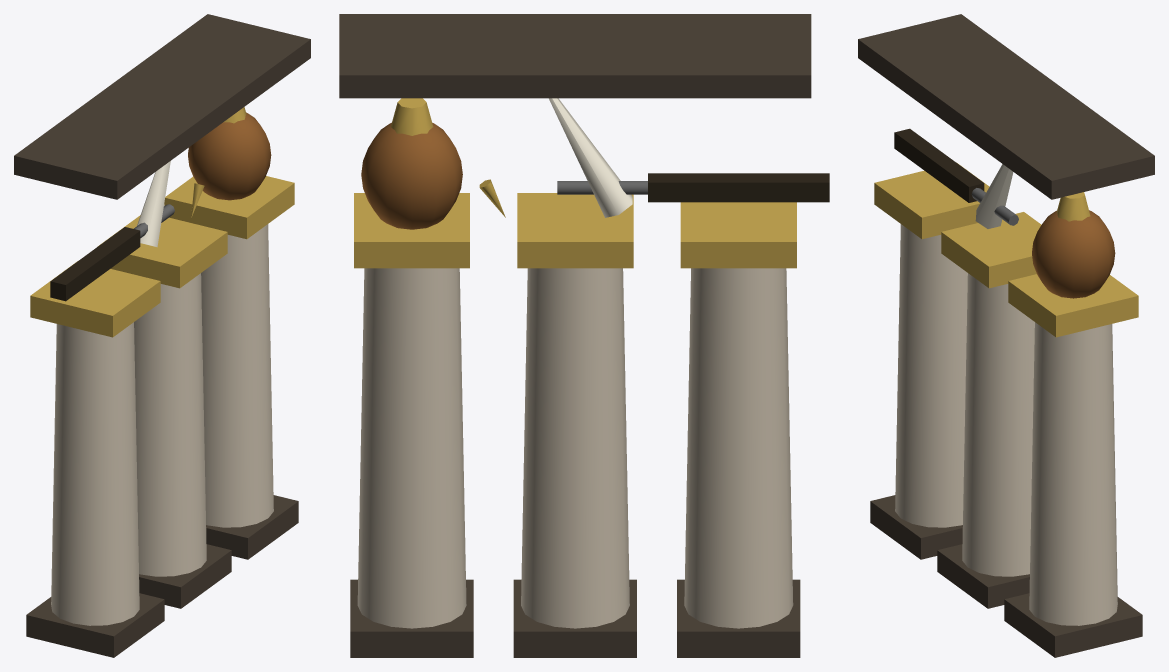
Rendered from three_pillars.glb.
3 renders of one model, left to right at view 1: azimuth 30°, elevation 25°; view 2: azimuth 150°, elevation 25°; view 3: azimuth 270°, elevation 25°, orthographic. The views are drawn at different scales.
Size of the model in its own units: 1.33 by 1.78 by 0.9964.
